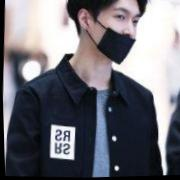WRONG: (87, 1, 142, 64)
